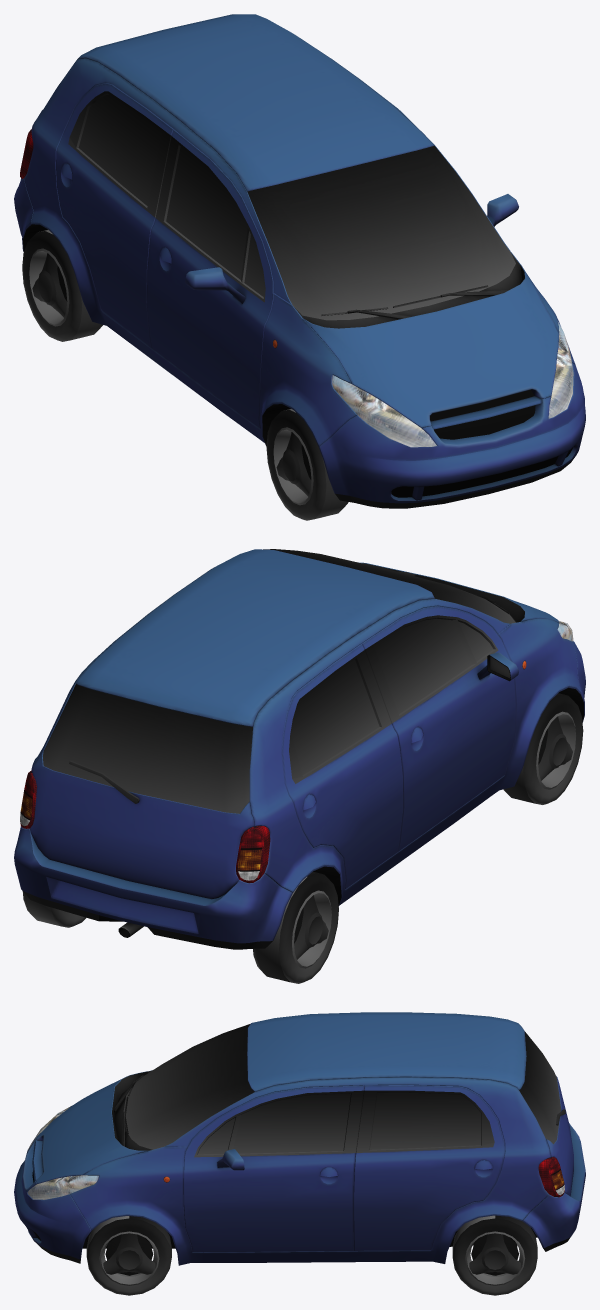
The model's file is SM_Car_02.fbx.
The picture shows the model from 3 angles, top to bottom: view 1: azimuth 30°, elevation 25°; view 2: azimuth 150°, elevation 25°; view 3: azimuth 270°, elevation 25°; orthographic projection. The views are drawn at different scales.
Parts seen in each view (by area): view 1: SM_Car_02_LOD0; view 2: SM_Car_02_LOD0; view 3: SM_Car_02_LOD0.
Part boxes in pixels (x1,y1,x2,y2): SM_Car_02_LOD0: (14, 14, 585, 520); SM_Car_02_LOD0: (14, 549, 585, 983); SM_Car_02_LOD0: (14, 1012, 585, 1295).
Size of what is drawn, in the model's own units: 2.14 by 1.75 by 4.33.
